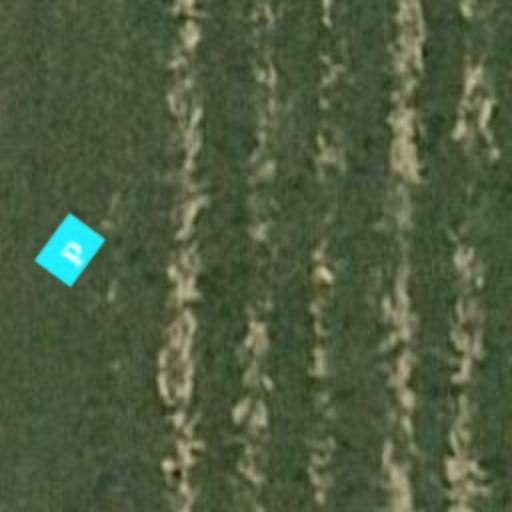rectangle: (28, 208, 112, 292)
